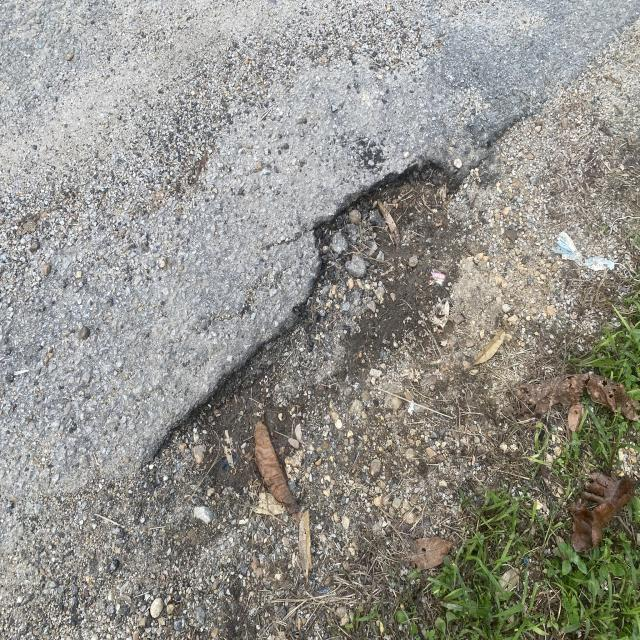Pothole: (79, 104, 588, 467)
